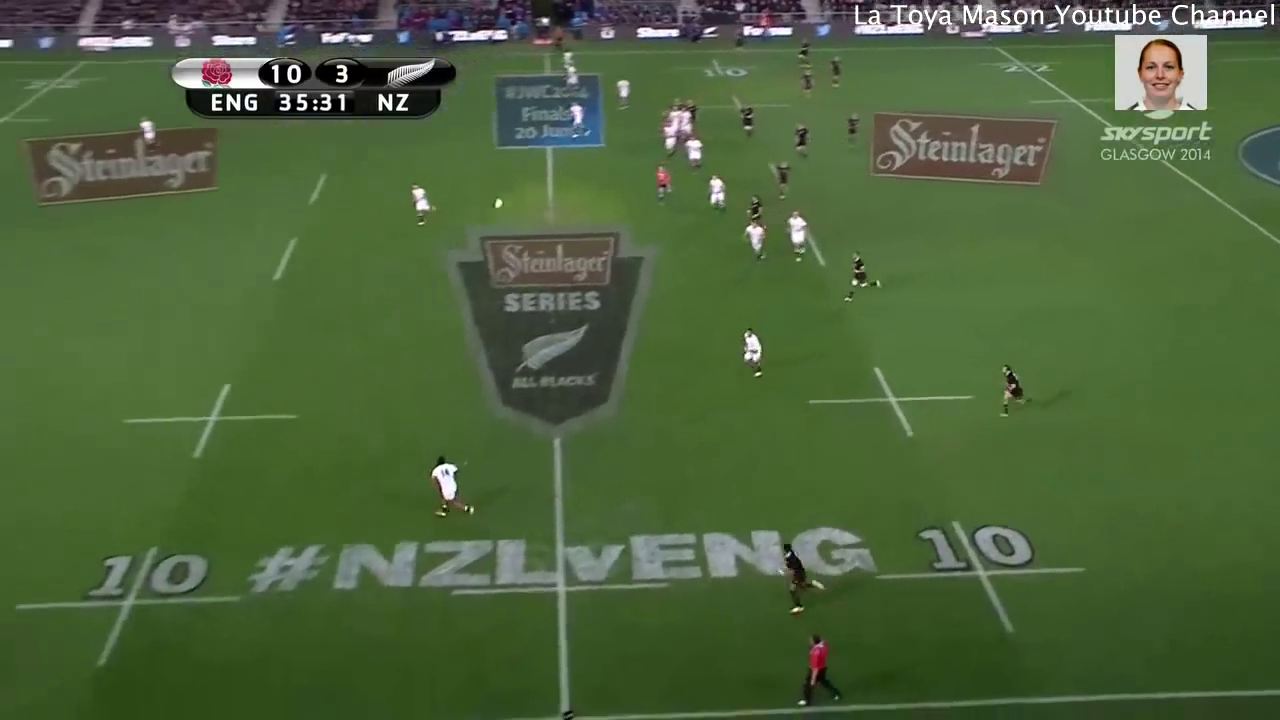10_metre: (868, 503, 1102, 645), (7, 542, 246, 676), (113, 374, 304, 468), (803, 357, 980, 445), (685, 91, 802, 122), (670, 53, 774, 81)
ball: (487, 189, 507, 214)
player: (772, 532, 836, 618), (785, 627, 845, 713), (421, 450, 481, 528), (835, 244, 889, 308), (989, 358, 1036, 419), (398, 172, 441, 232), (735, 323, 772, 390), (736, 216, 773, 275), (781, 203, 814, 268), (129, 110, 168, 156), (563, 97, 596, 144), (741, 188, 772, 229), (655, 117, 679, 169), (650, 164, 676, 209), (790, 120, 816, 164), (793, 60, 822, 99), (704, 173, 731, 214), (610, 73, 635, 117), (825, 52, 850, 92), (772, 156, 793, 203), (739, 101, 762, 143), (683, 132, 705, 170), (563, 62, 586, 96), (559, 43, 582, 74), (843, 109, 861, 148), (677, 104, 695, 140), (795, 35, 815, 65), (683, 96, 702, 127), (670, 89, 688, 113), (665, 102, 680, 126)
